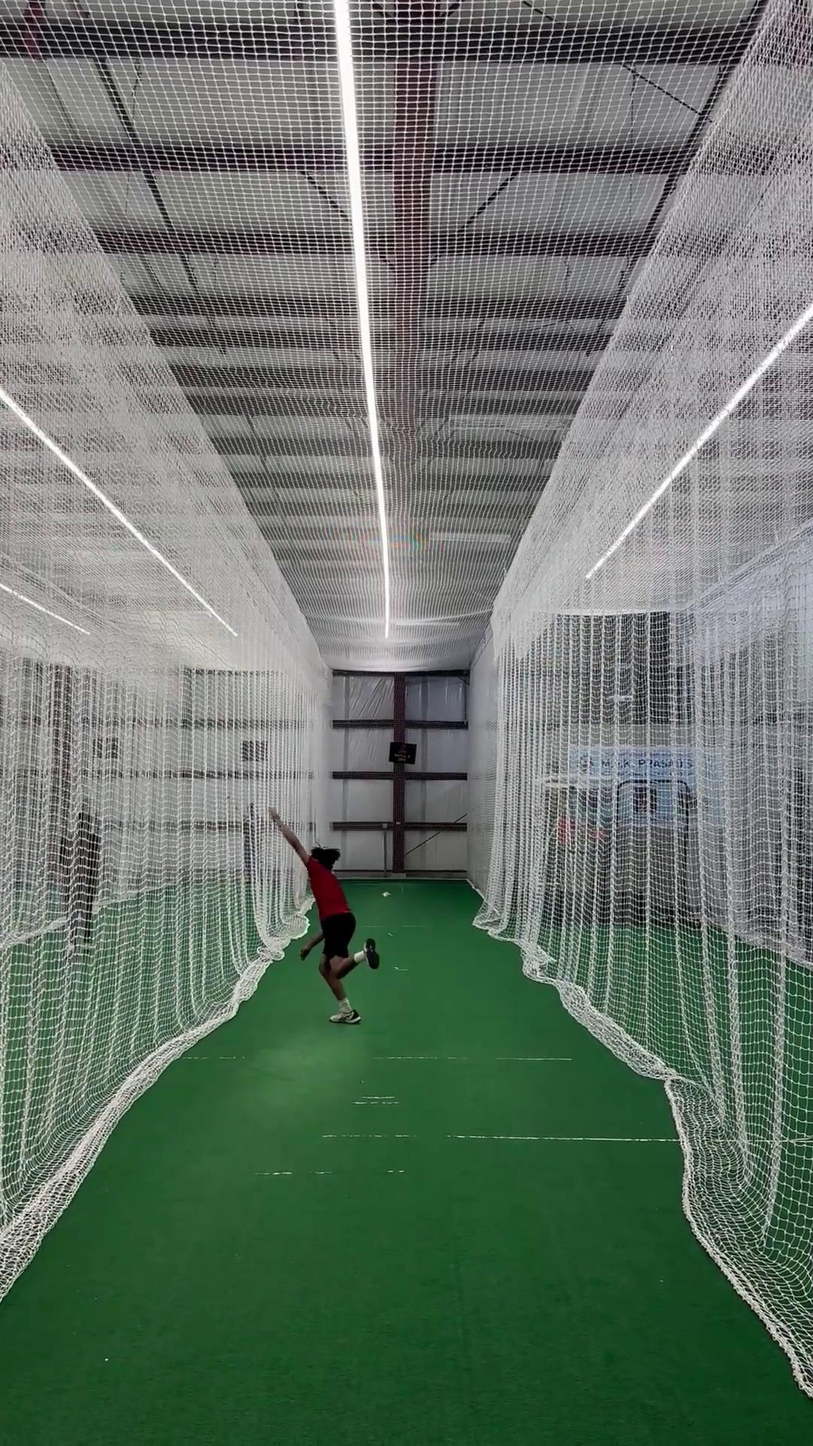ball: (381, 891, 391, 900)
